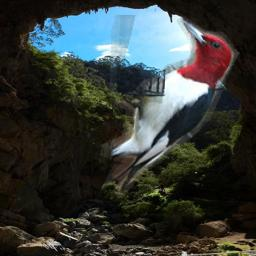Woodpecker: (98, 15, 243, 198)
